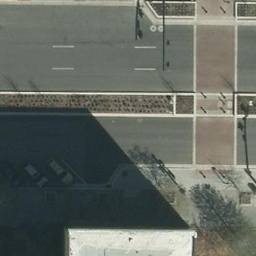car: (40, 152, 74, 186), (18, 156, 52, 190), (0, 157, 26, 191)
